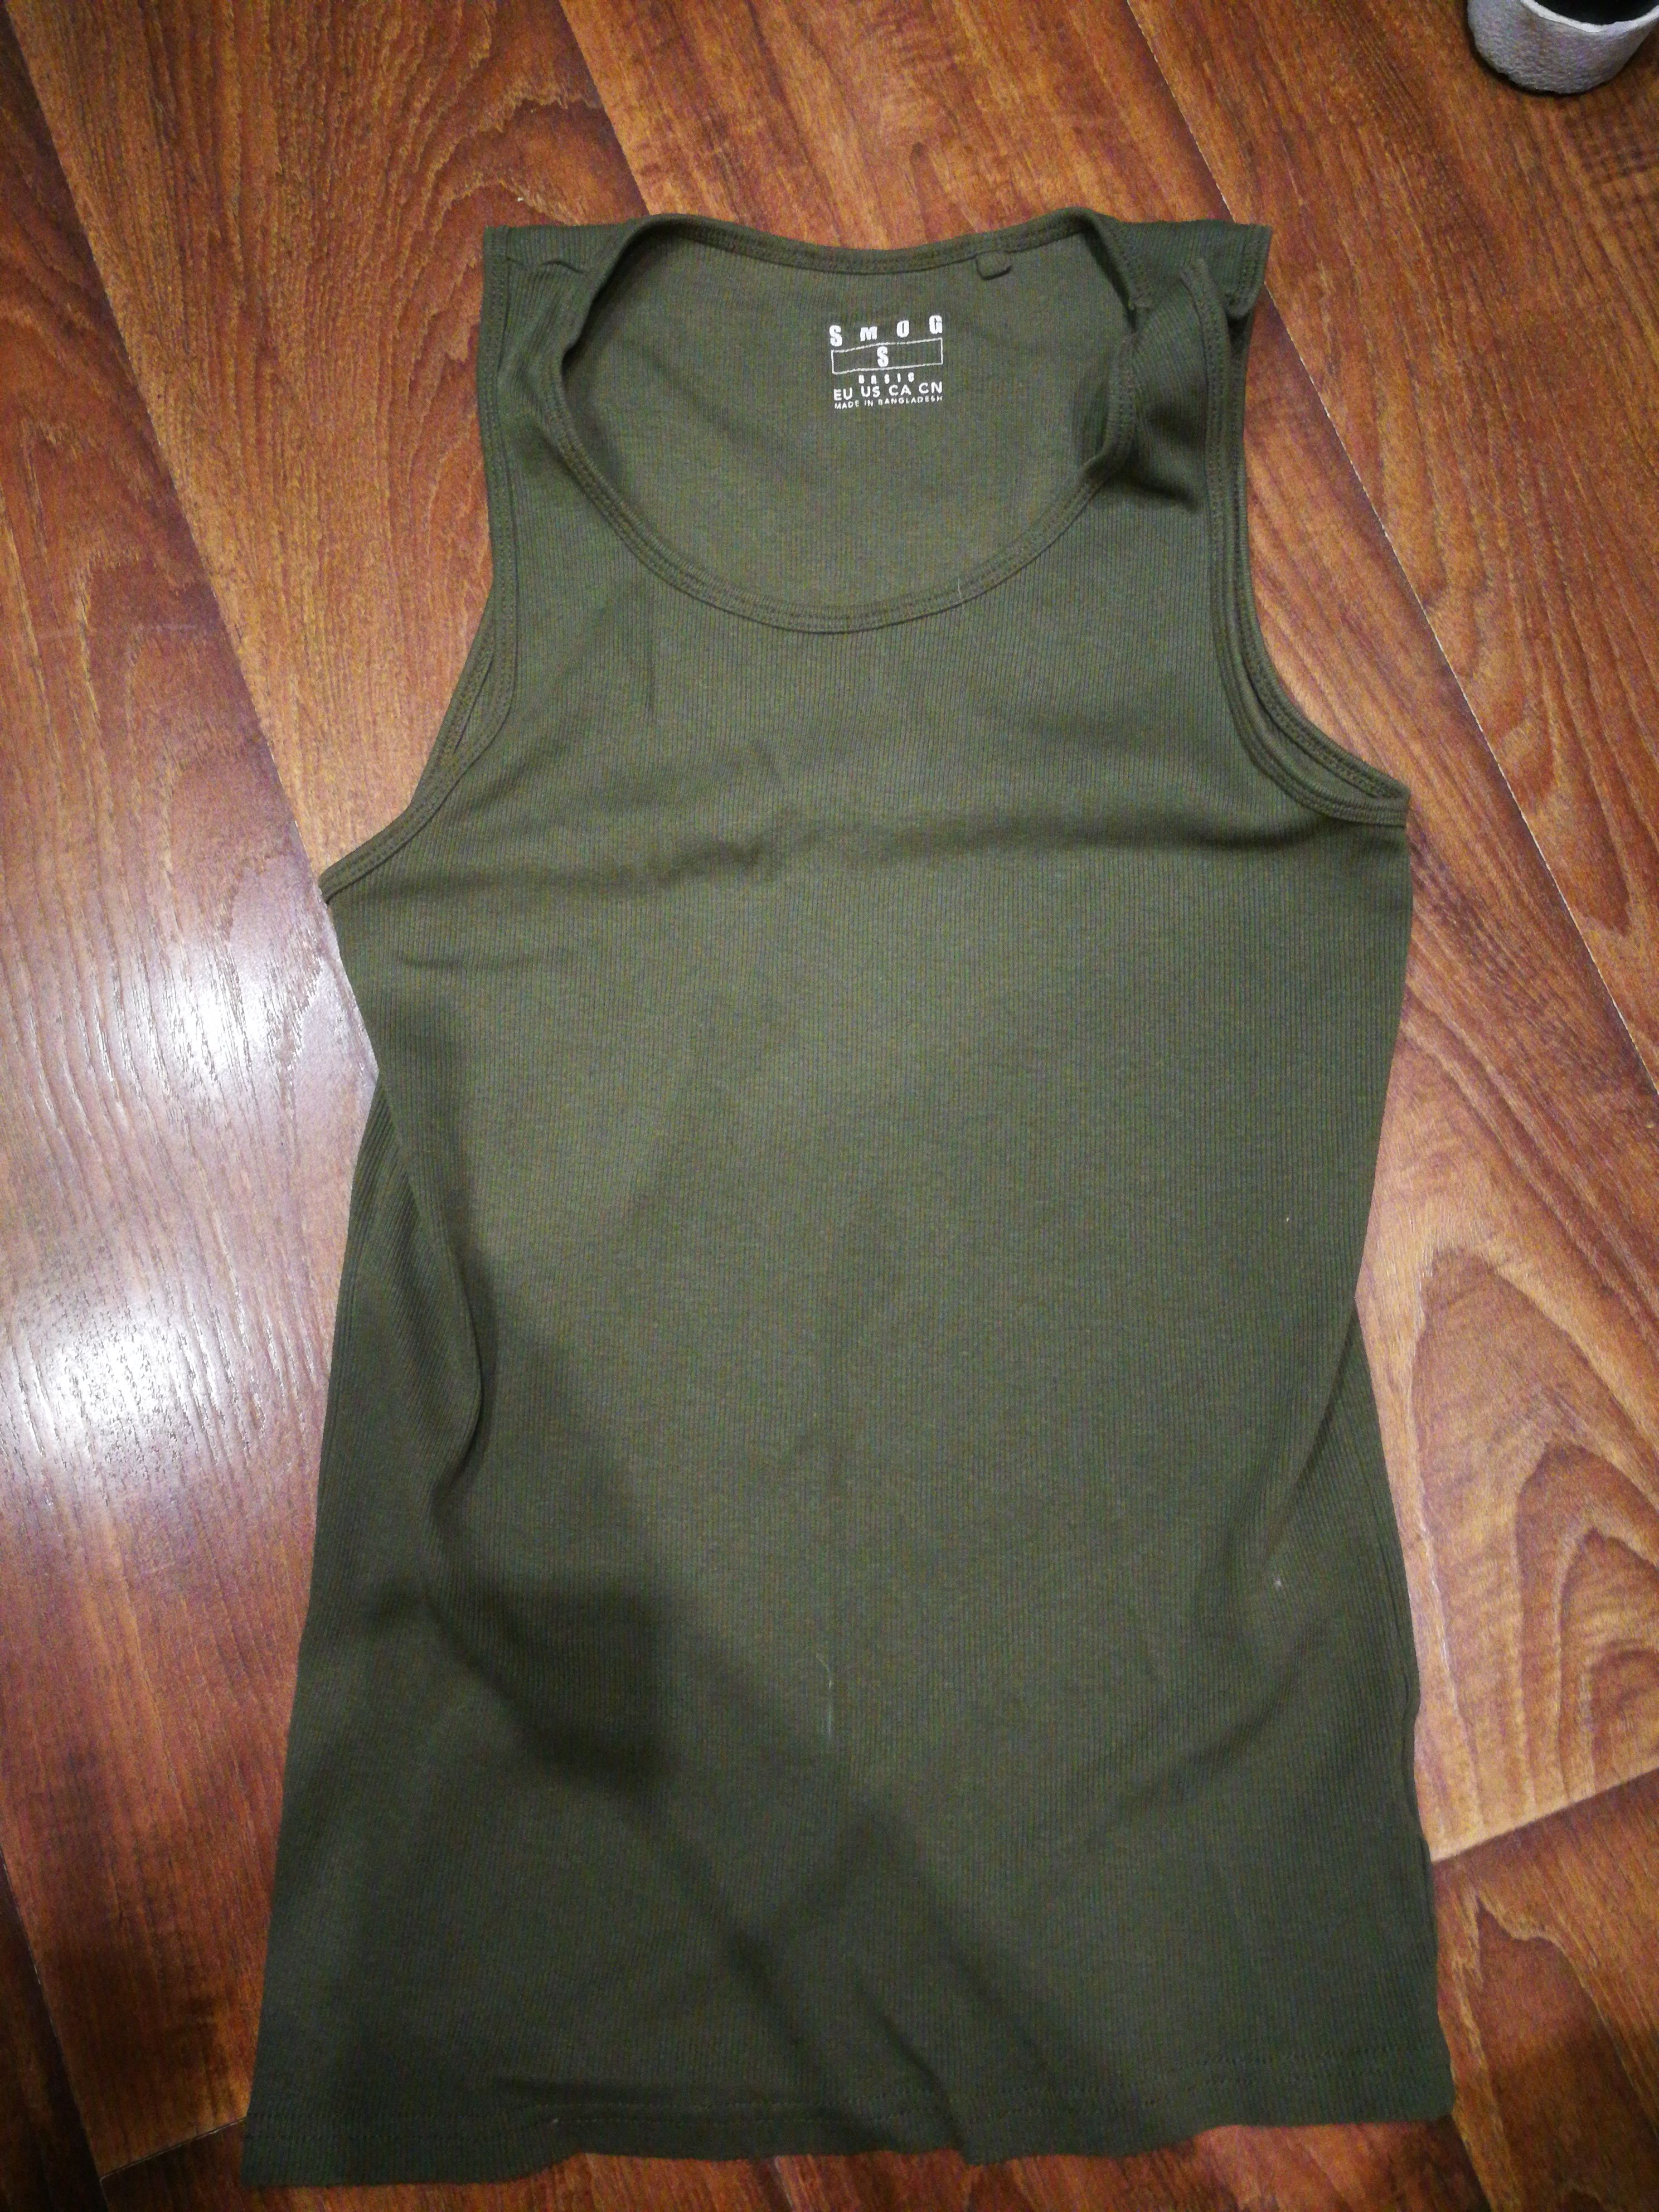clothes: (275, 197, 1466, 2165)
